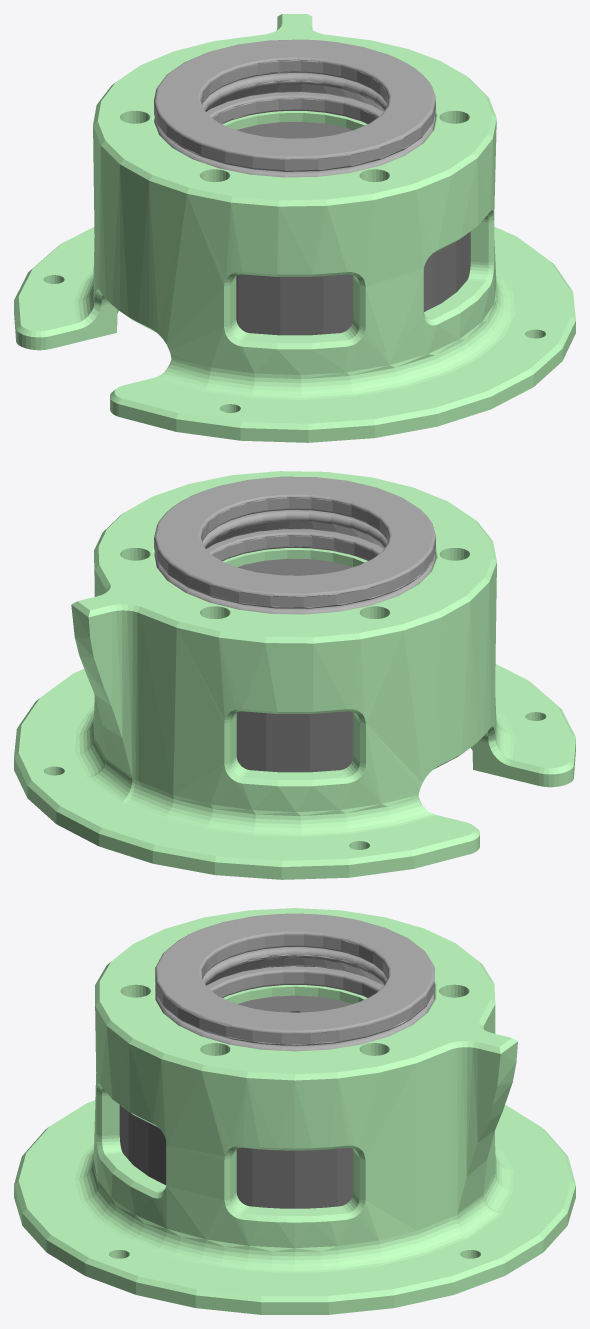
3 renders of one model, top to bottom at view 1: azimuth 30°, elevation 25°; view 2: azimuth 150°, elevation 25°; view 3: azimuth 270°, elevation 25°, orthographic.
Visible parts, largest first — view 1: node0, node1, node2; view 2: node0, node1, node2; view 3: node0, node1, node2.
Boxes of the visible parts, box(x1,y1,x2,y2) form: node0: box(14, 14, 575, 442); node1: box(154, 39, 435, 177); node2: box(236, 121, 470, 335); node0: box(14, 471, 575, 879); node1: box(154, 476, 435, 614); node2: box(236, 558, 353, 772); node0: box(14, 908, 575, 1314); node1: box(155, 913, 434, 1051); node2: box(119, 995, 353, 1208).
Size of the model in its own units: 0.1158 by 0.12 by 0.053.
